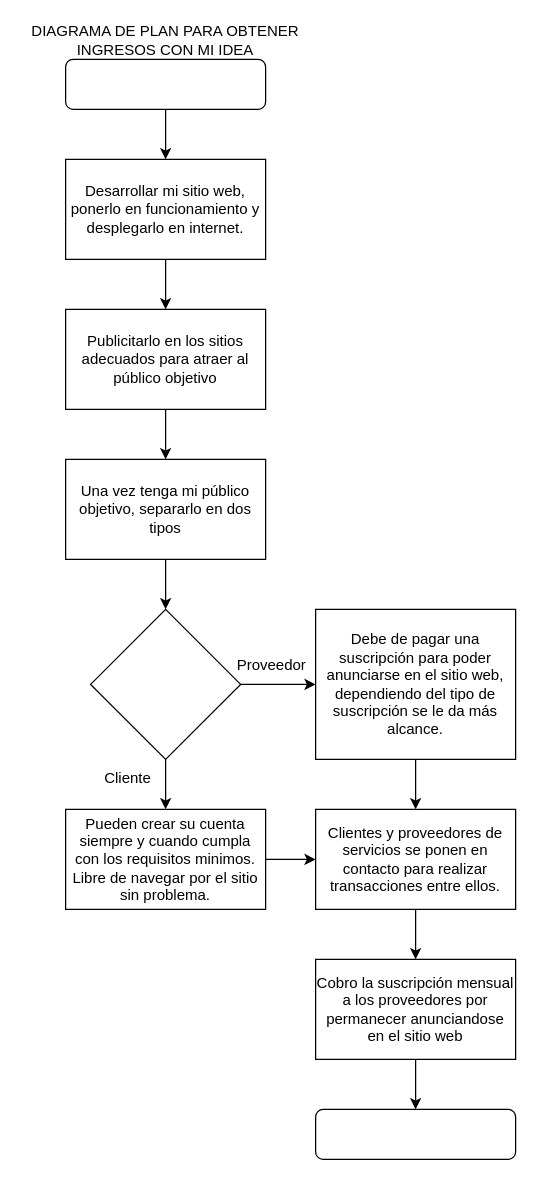
Some shapes in this 538 by 1181 pixel diagram are drawn without their labels. The shapes that lost their labels are listed below. From the top down, each one's centre as x and y in pixels, then its label:
At (165,83): "INICIO".
At (165,683): "¿Cliente o proveedor?".
At (415,1133): "FIN".
